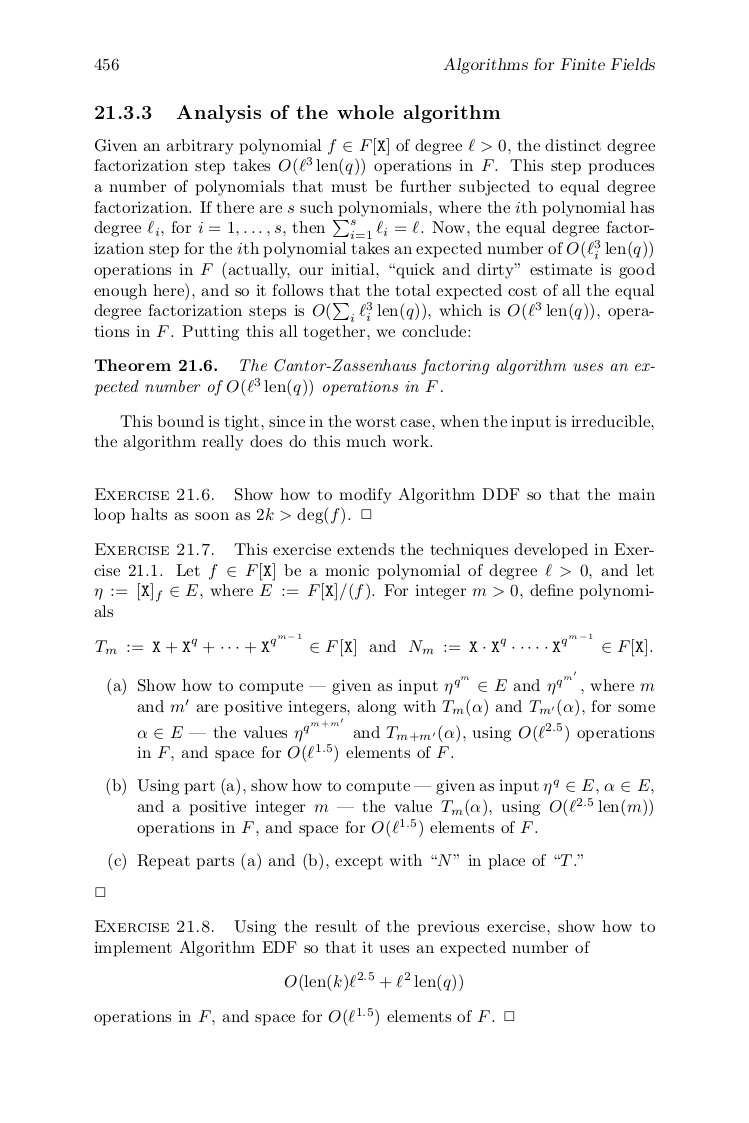figure: (95, 887, 105, 896)
formula: (95, 632, 652, 657), (284, 971, 462, 992)
